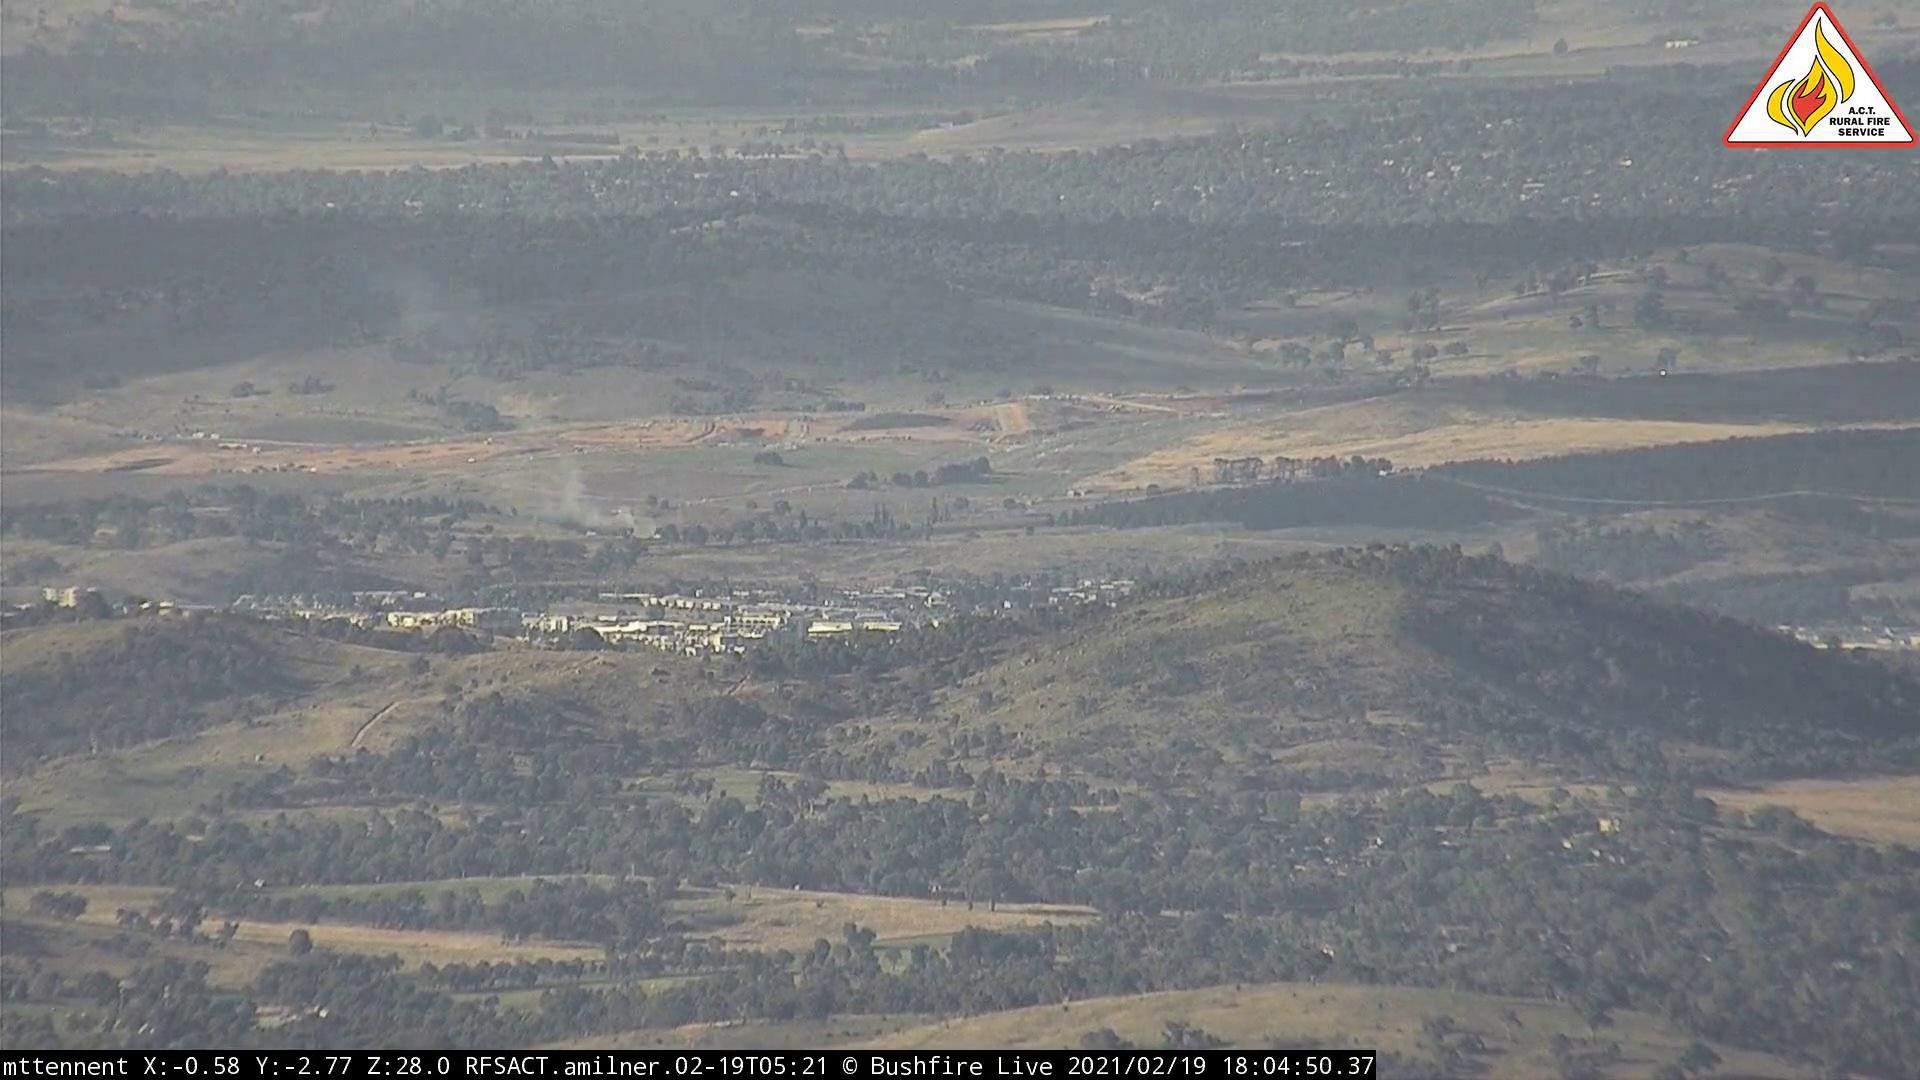Smoke: (516, 465, 690, 551)
